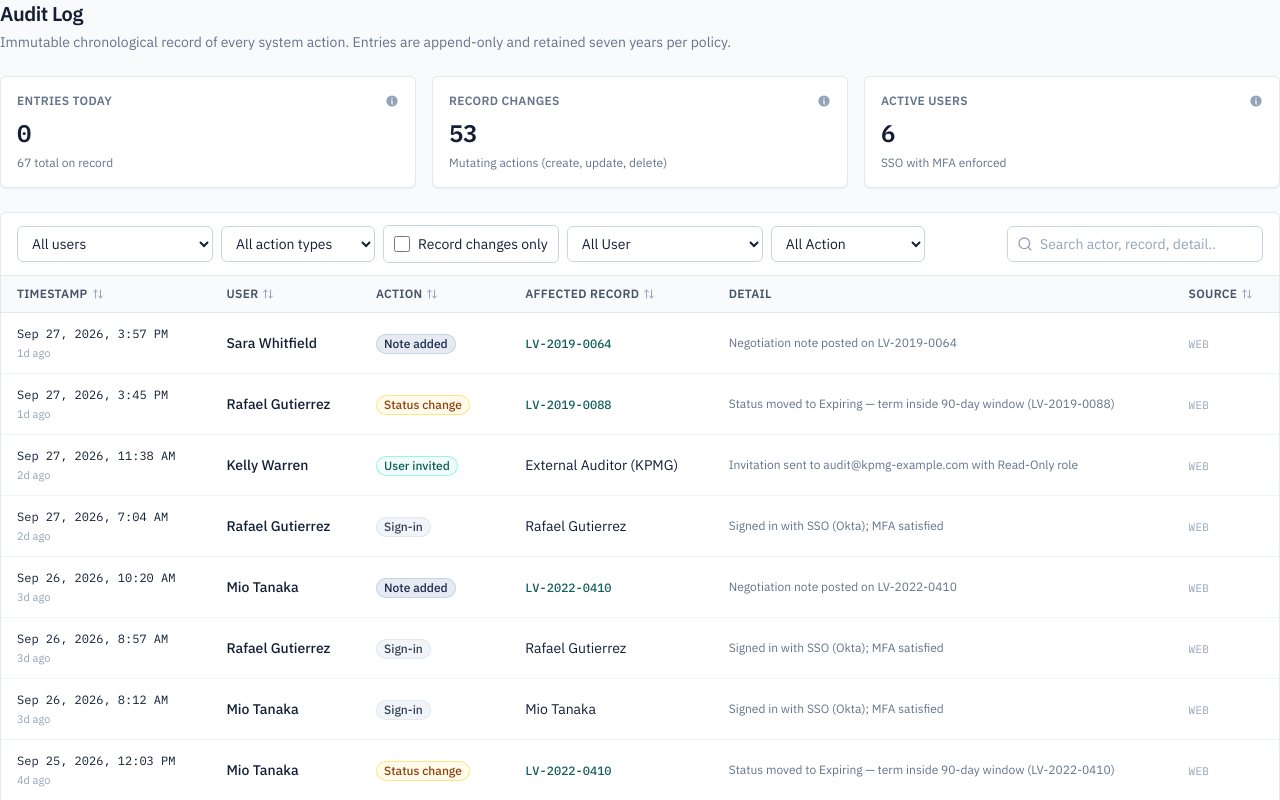
AuditLogView › offers the empty-state path when filters exclude everything
The image size is (1280, 800).
Select "Kelly Warren" in the dropdown named "Filter by user" at point(115, 244), box [17, 226, 213, 262]
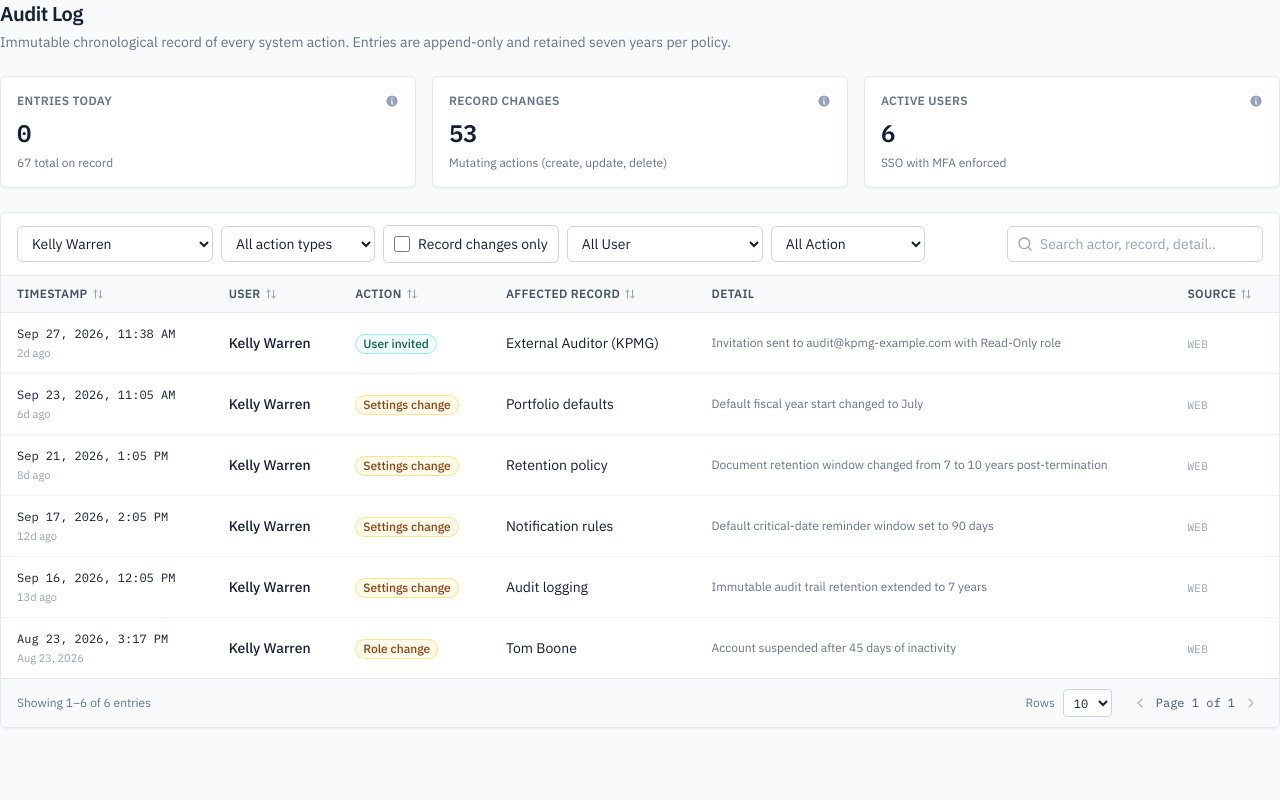
Select "Sign-in" in the dropdown named "Filter by action type" at point(298, 244), box [221, 226, 375, 262]
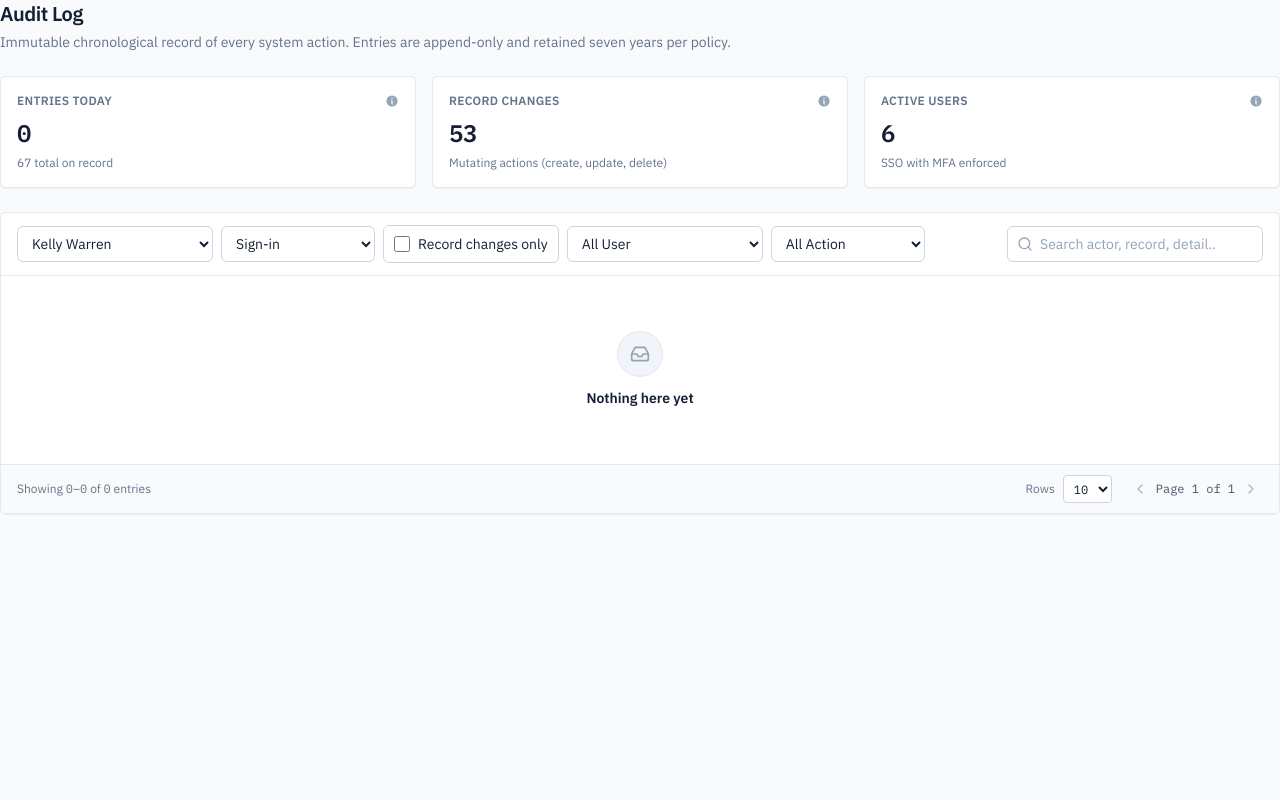
Expected: the text "Nothing here yet" is shown, [586, 388, 694, 408]
